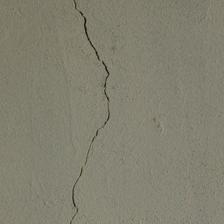Crack: (61, 1, 124, 176), (0, 0, 98, 89)
